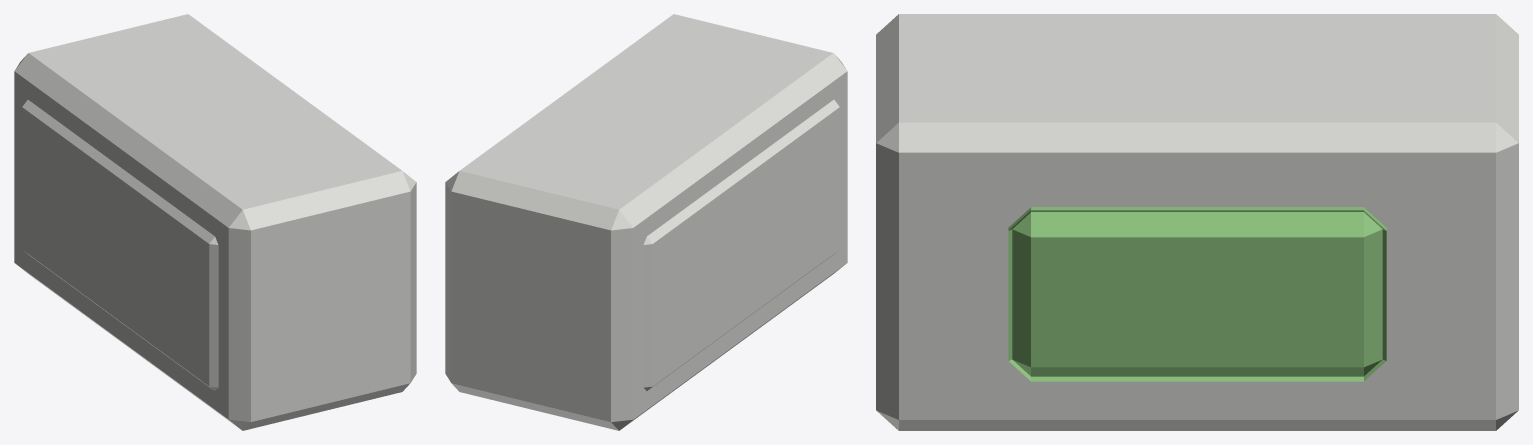
File: 灯具_应急灯_01.fbx
3 views of the same model, side by side, from view 1: azimuth 30°, elevation 25°; view 2: azimuth 150°, elevation 25°; view 3: azimuth 270°, elevation 25° (orthographic). The views are drawn at different scales.
Visible parts, largest first — view 1: 灯箱.001, 底板.002; view 2: 灯箱.001, 底板.002; view 3: 灯箱.001, 标识面.
Boxes of the visible parts, x1,y1,x2,y2 form: 灯箱.001: (14, 14, 416, 430); 底板.002: (22, 100, 218, 390); 灯箱.001: (445, 14, 847, 430); 底板.002: (643, 100, 839, 390); 灯箱.001: (876, 14, 1518, 430); 标识面: (1008, 207, 1386, 381).
Bounding box in the file's own units: 18.5 × 18 × 34.
